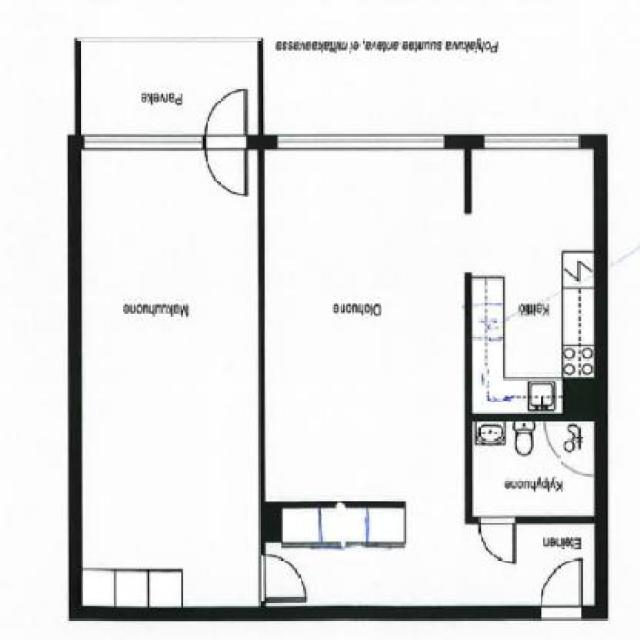door: (203, 88, 251, 202), (539, 557, 583, 621), (258, 554, 311, 603), (477, 517, 520, 568)
window: (279, 137, 443, 152), (85, 136, 203, 150), (484, 135, 578, 151)
zone: (264, 149, 594, 606), (85, 151, 260, 606), (80, 43, 257, 135), (472, 420, 594, 518)
